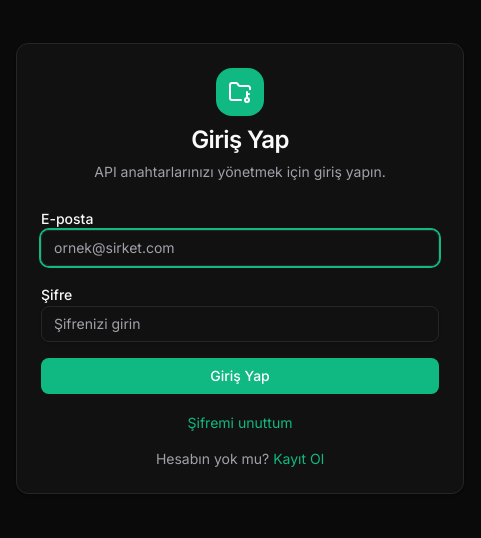
Test: LoginPage › ag hatasi mesaji gosterir
Type "admin@test.com" into the field with placeholder "ornek@sirket.com".
click(240, 248); type("admin@test.com")  # box x1=41 y1=230 x2=439 y2=266
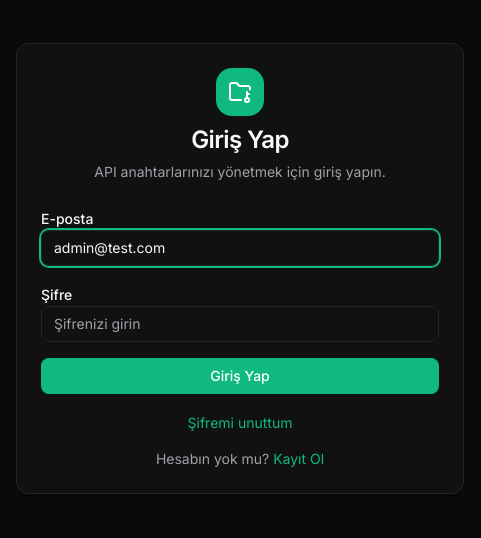
Type "sifre123" into the password field with placeholder "Şifrenizi girin".
click(240, 324); type("sifre123")  # box x1=41 y1=306 x2=439 y2=342
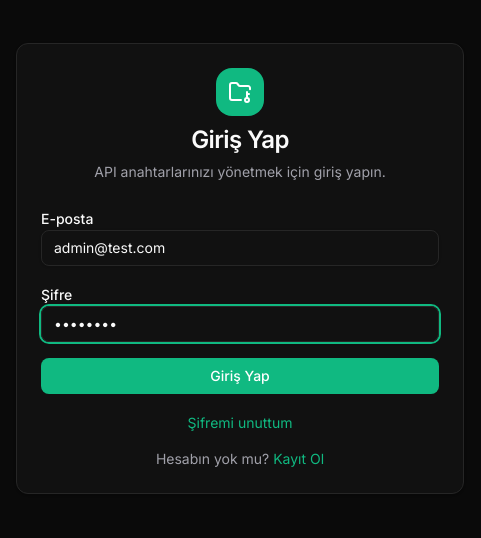
Click the button "Giriş Yap".
click(240, 376)  # box x1=41 y1=358 x2=439 y2=394
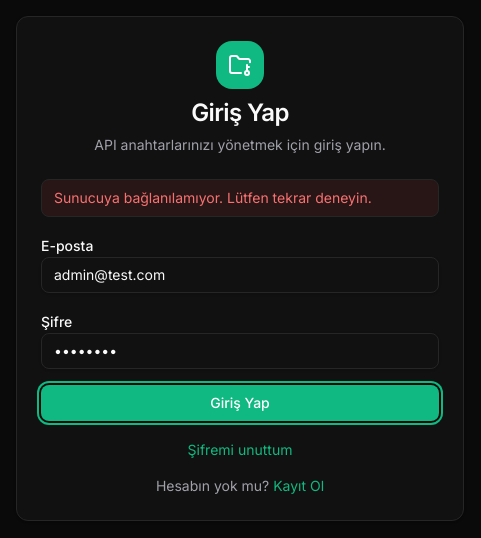
Expected: the text "Sunucuya bağlanılamıyor. Lütfen tekrar deneyin." is shown, x1=41 y1=178 x2=439 y2=216
